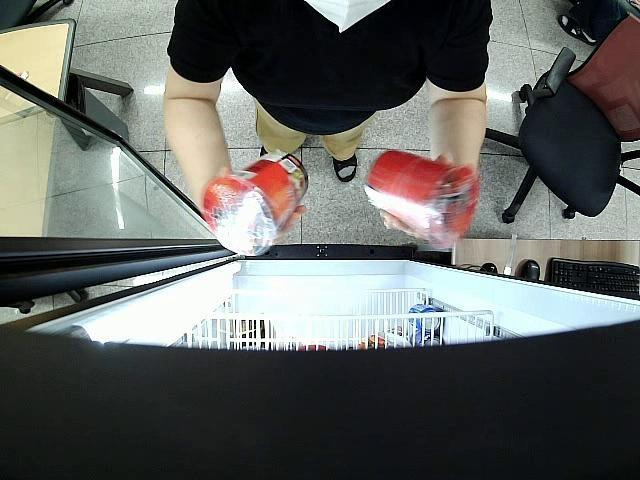02_shinRamen_S: (364, 148, 478, 248), (202, 148, 308, 255)
